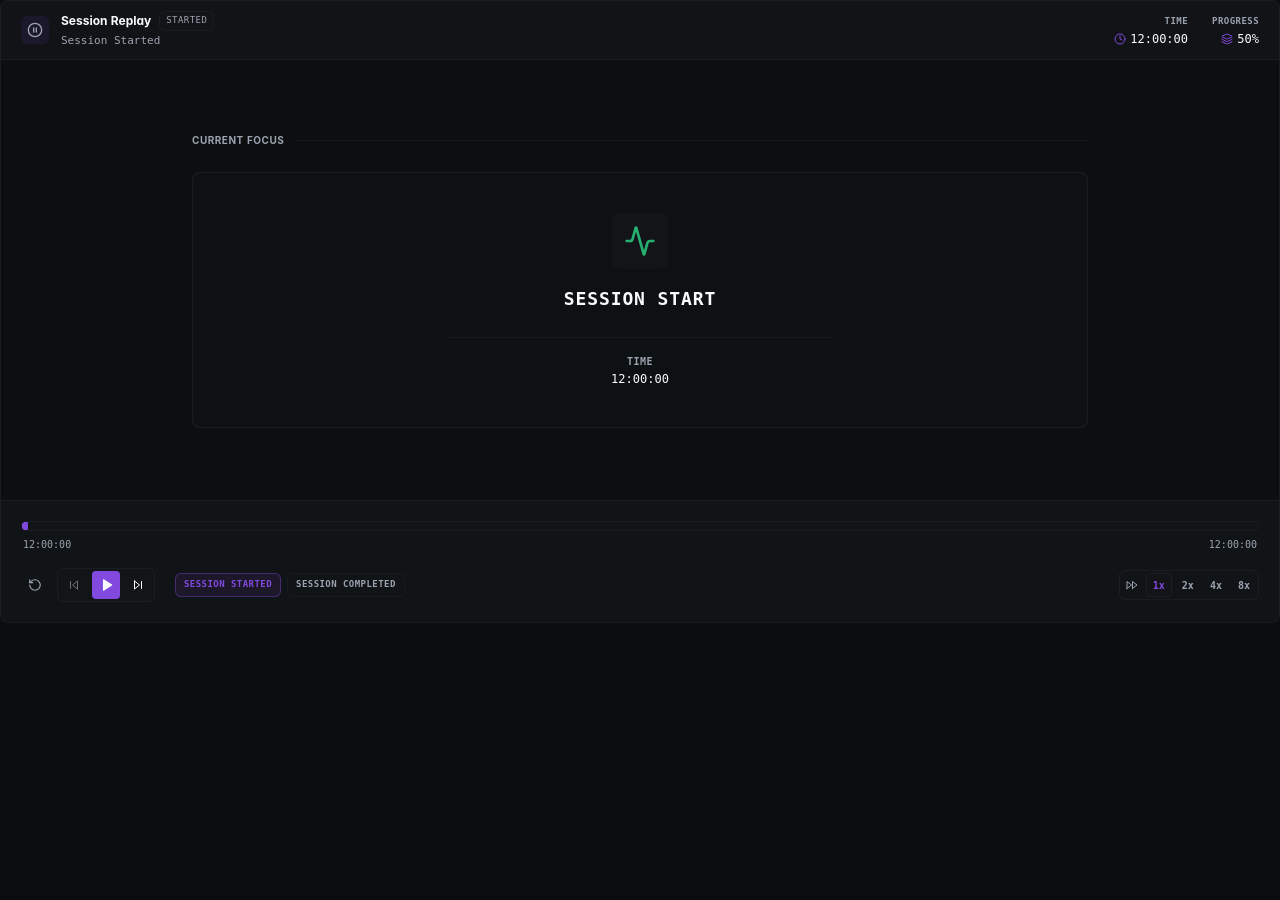
Test: ReplayView › advances to the next frame and updates the scrubber label
This screenshot has width=1280, height=900.
Click the button named "next frame".
click(138, 585)  # box [124,571,152,599]
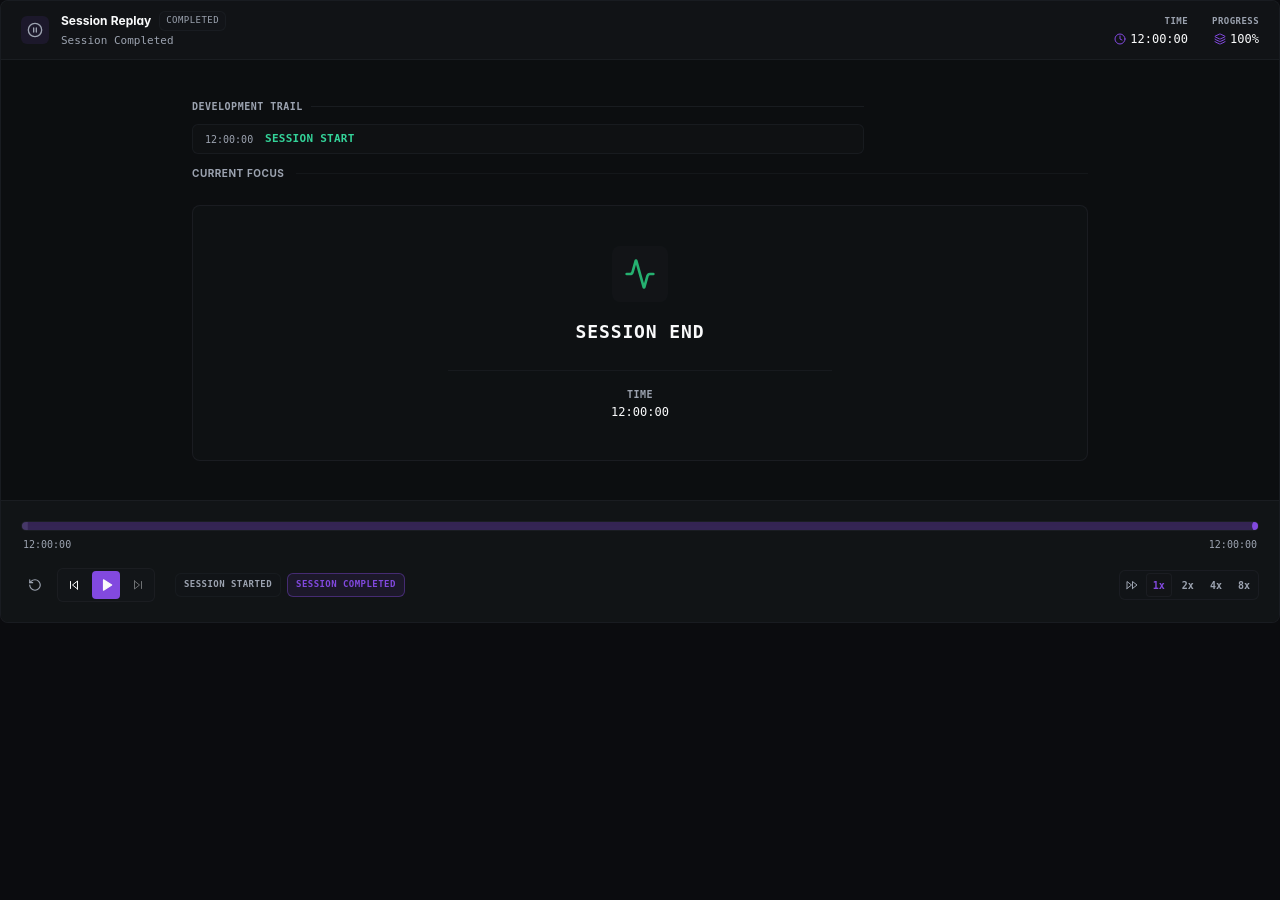
Check: the button named "next frame" is disabled, box [124,571,152,599]
